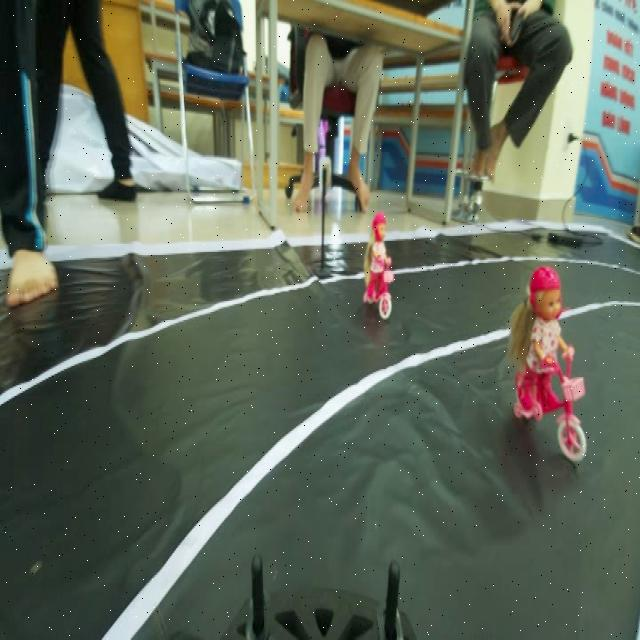pedestrian: (503, 248, 596, 489), (352, 196, 408, 322)
